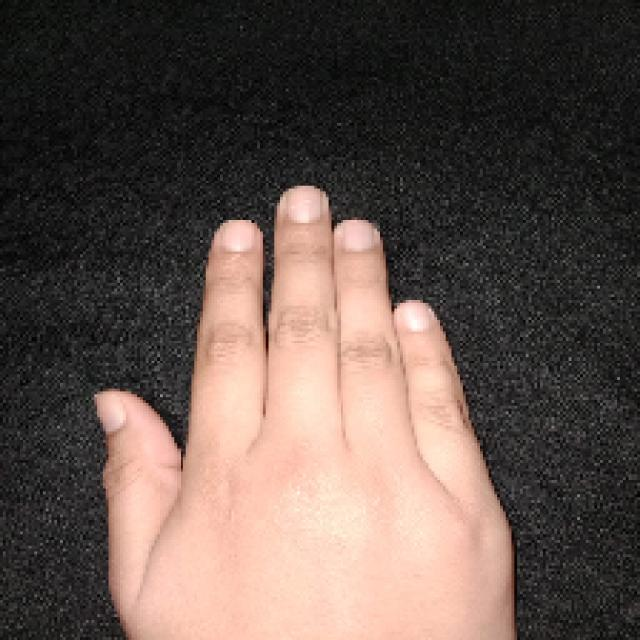Nail: (95, 391, 126, 434), (286, 186, 322, 222), (220, 221, 258, 251), (339, 220, 375, 251), (399, 301, 430, 331)
